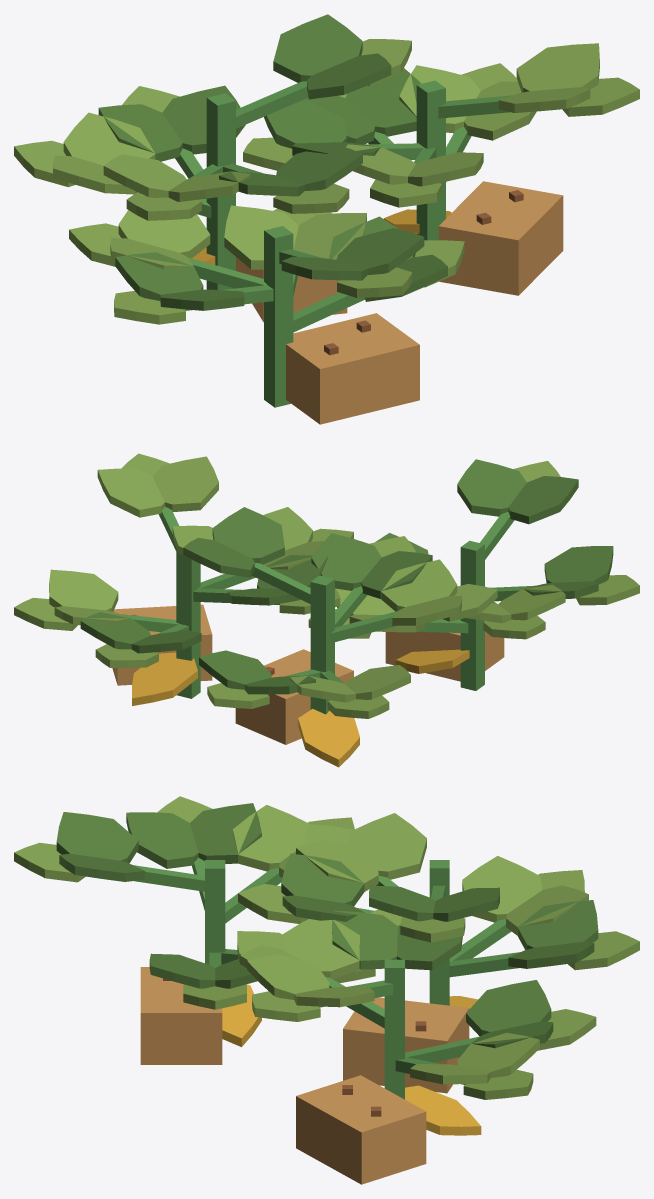
Rendered from crop_potato_mature.glb.
3 views of the same model, one above another, from view 1: azimuth 30°, elevation 25°; view 2: azimuth 150°, elevation 25°; view 3: azimuth 270°, elevation 25° (orthographic). The views are drawn at different scales.
Parts seen in each view (by area): view 1: body__leaf2.009, body__leaf.005, body__wood3.001, body__green2.007, body__hay.003, body__wood; view 2: body__leaf2.009, body__leaf.005, body__green2.007, body__wood3.001, body__hay.003; view 3: body__leaf2.009, body__leaf.005, body__wood3.001, body__green2.007, body__hay.003.
Boxes of the visible parts, x1=… form: body__leaf2.009: x1=14, y1=39, x2=639, y2=324; body__leaf.005: x1=98, y1=14, x2=447, y2=310; body__wood3.001: x1=236, y1=181, x2=563, y2=424; body__green2.007: x1=135, y1=80, x2=512, y2=407; body__hay.003: x1=192, y1=209, x2=451, y2=264; body__wood: x1=324, y1=190, x2=523, y2=355; body__leaf2.009: x1=14, y1=453, x2=639, y2=718; body__leaf.005: x1=80, y1=459, x2=613, y2=694; body__green2.007: x1=120, y1=506, x2=535, y2=714; body__wood3.001: x1=112, y1=604, x2=504, y2=744; body__hay.003: x1=132, y1=649, x2=469, y2=767; body__leaf2.009: x1=14, y1=796, x2=639, y2=1099; body__leaf.005: x1=56, y1=803, x2=598, y2=1048; body__wood3.001: x1=140, y1=967, x2=469, y2=1184; body__green2.007: x1=133, y1=857, x2=520, y2=1099; body__hay.003: x1=222, y1=984, x2=481, y2=1135.
Bounding box in the file's own units: 0.8299 × 0.3173 × 0.8367.
